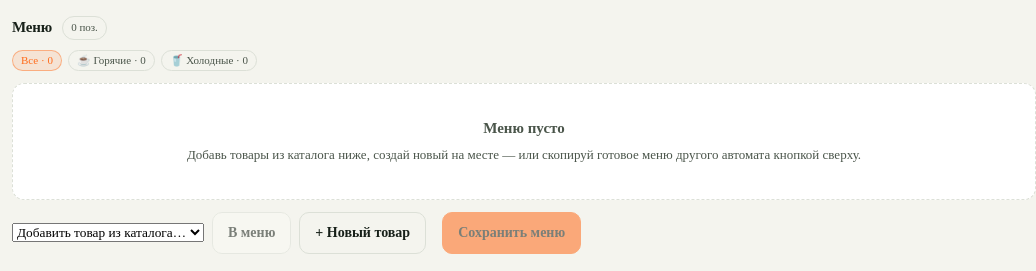
редактор меню › передаёт черновик меню и показывает конфликт Core
Select "☕ Latte · 20 000" in the dropdown at point(108, 232), box left=12, top=223, right=204, bottom=242
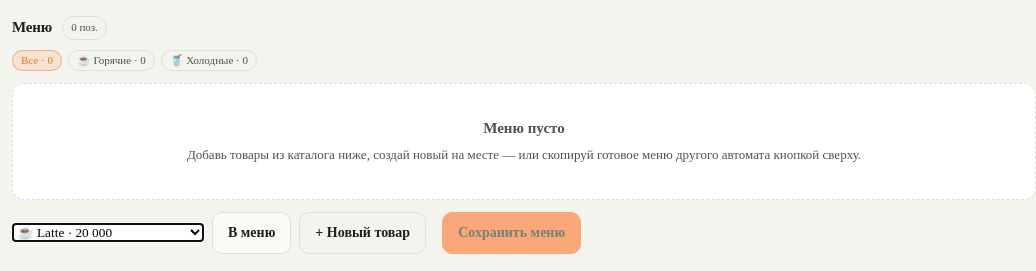
Click the button "В меню".
click(252, 232)  # box left=212, top=212, right=291, bottom=254
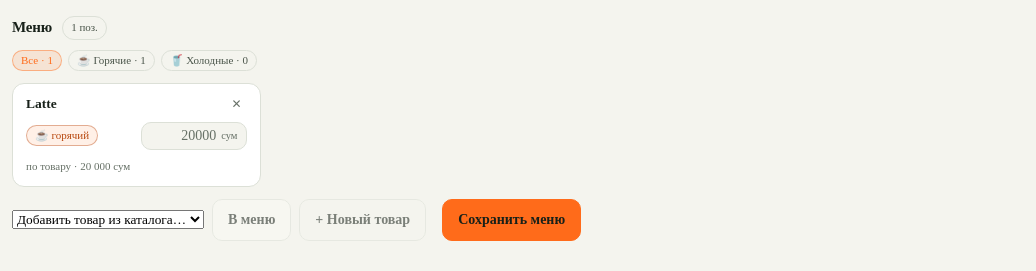
Click the button "Сохранить меню".
click(512, 220)  # box left=442, top=199, right=581, bottom=241
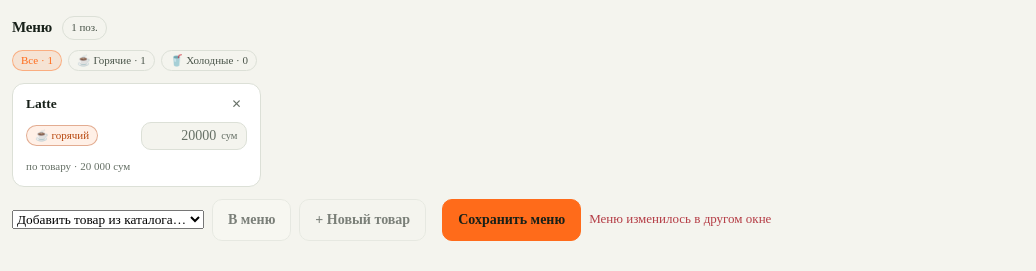
Now the text "Меню изменилось в другом окне" is shown, box left=589, top=210, right=771, bottom=229
